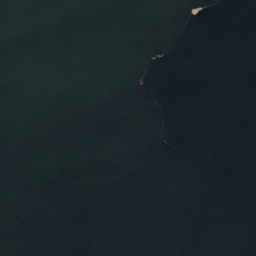Marine Debris: (149, 89, 179, 151), (192, 6, 208, 14)
